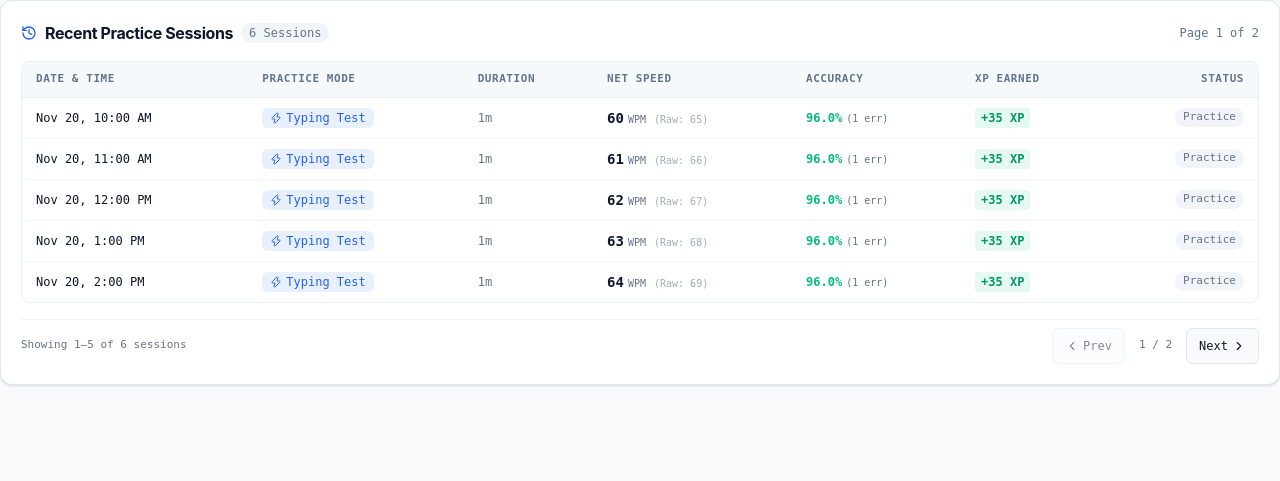
RecentSessionsTable (W-10) › handles pagination API failure and provides retry button
Click the button with aria-label "Next Page".
click(1223, 346)  # box x1=1186 y1=328 x2=1259 y2=364
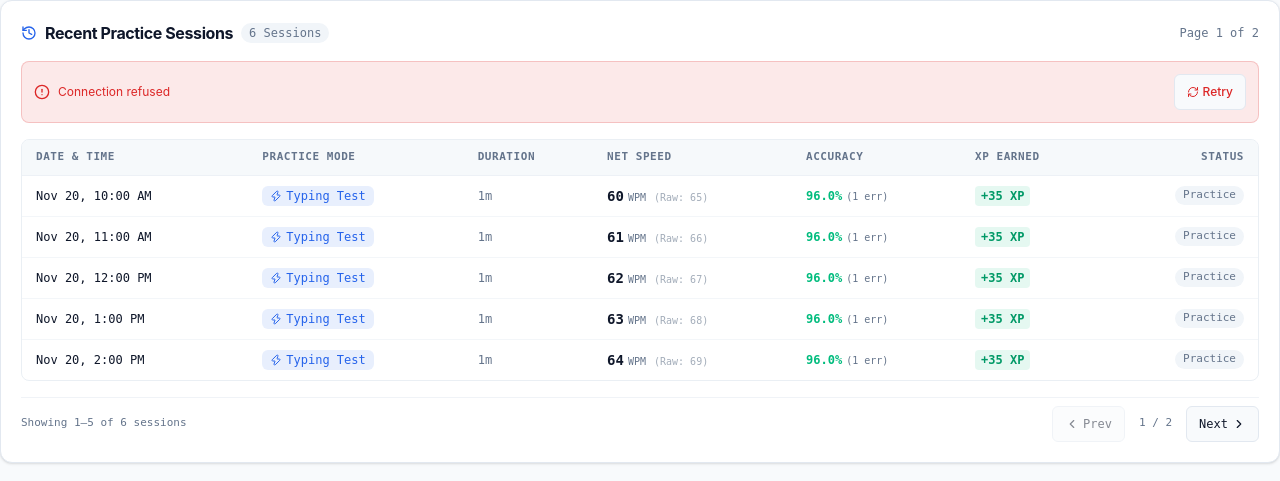
Result: the text "Connection refused" is shown at x1=58 y1=84 x2=170 y2=100
Result: the button "Retry" is shown at x1=1174 y1=74 x2=1246 y2=110
